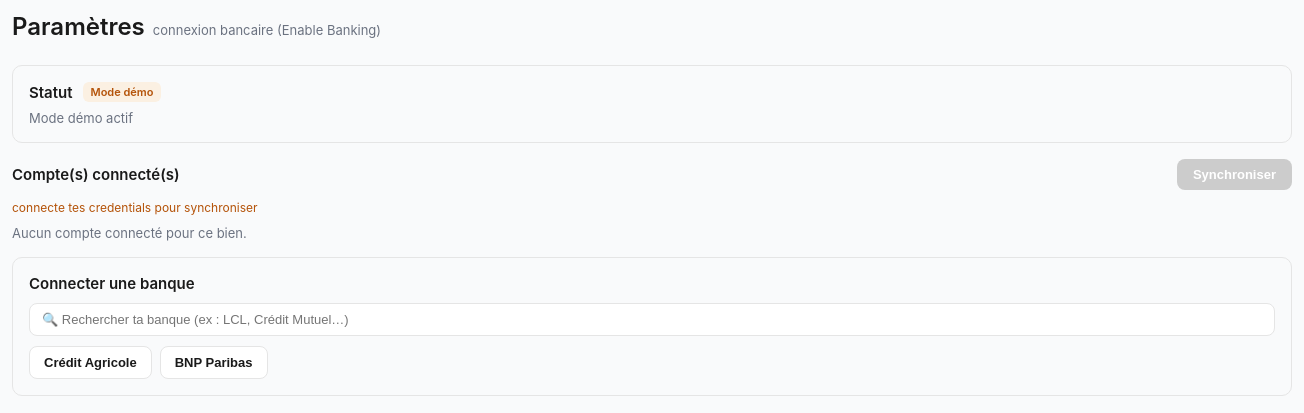
Test: le champ de recherche filtre la liste des banques
Expected: the button "Crédit Agricole" is shown, x1=29 y1=346 x2=152 y2=379
Expected: the button "BNP Paribas" is shown, x1=160 y1=346 x2=268 y2=379
Note: On tape "BNP" → seule BNP reste.
Type "BNP" into the field with placeholder "🔍 Rechercher ta banque (ex : LCL, Crédit Mutuel…)" at coordinates (652, 320), box x1=29 y1=303 x2=1275 y2=336
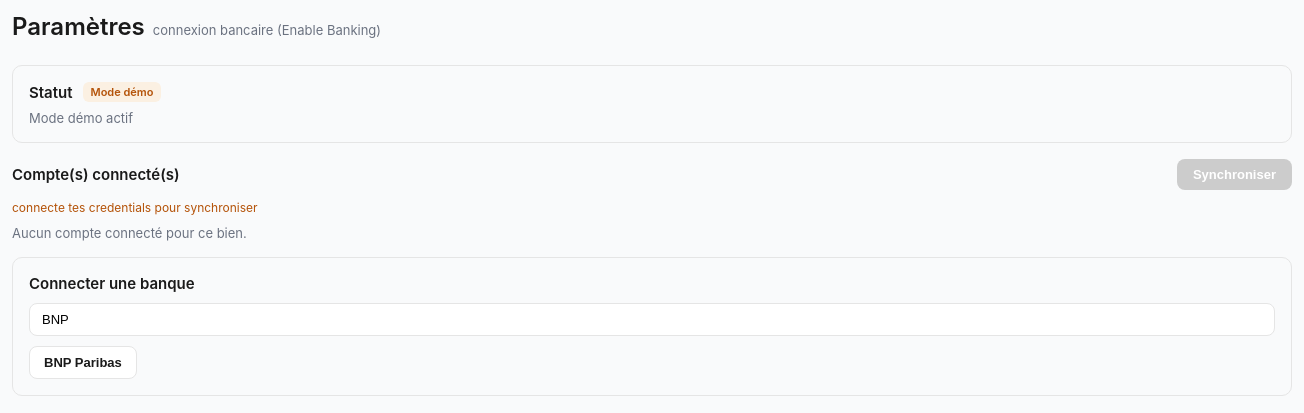
Expected: the button "BNP Paribas" is shown, x1=29 y1=346 x2=137 y2=379
Expected: the button "Crédit Agricole" is gone
